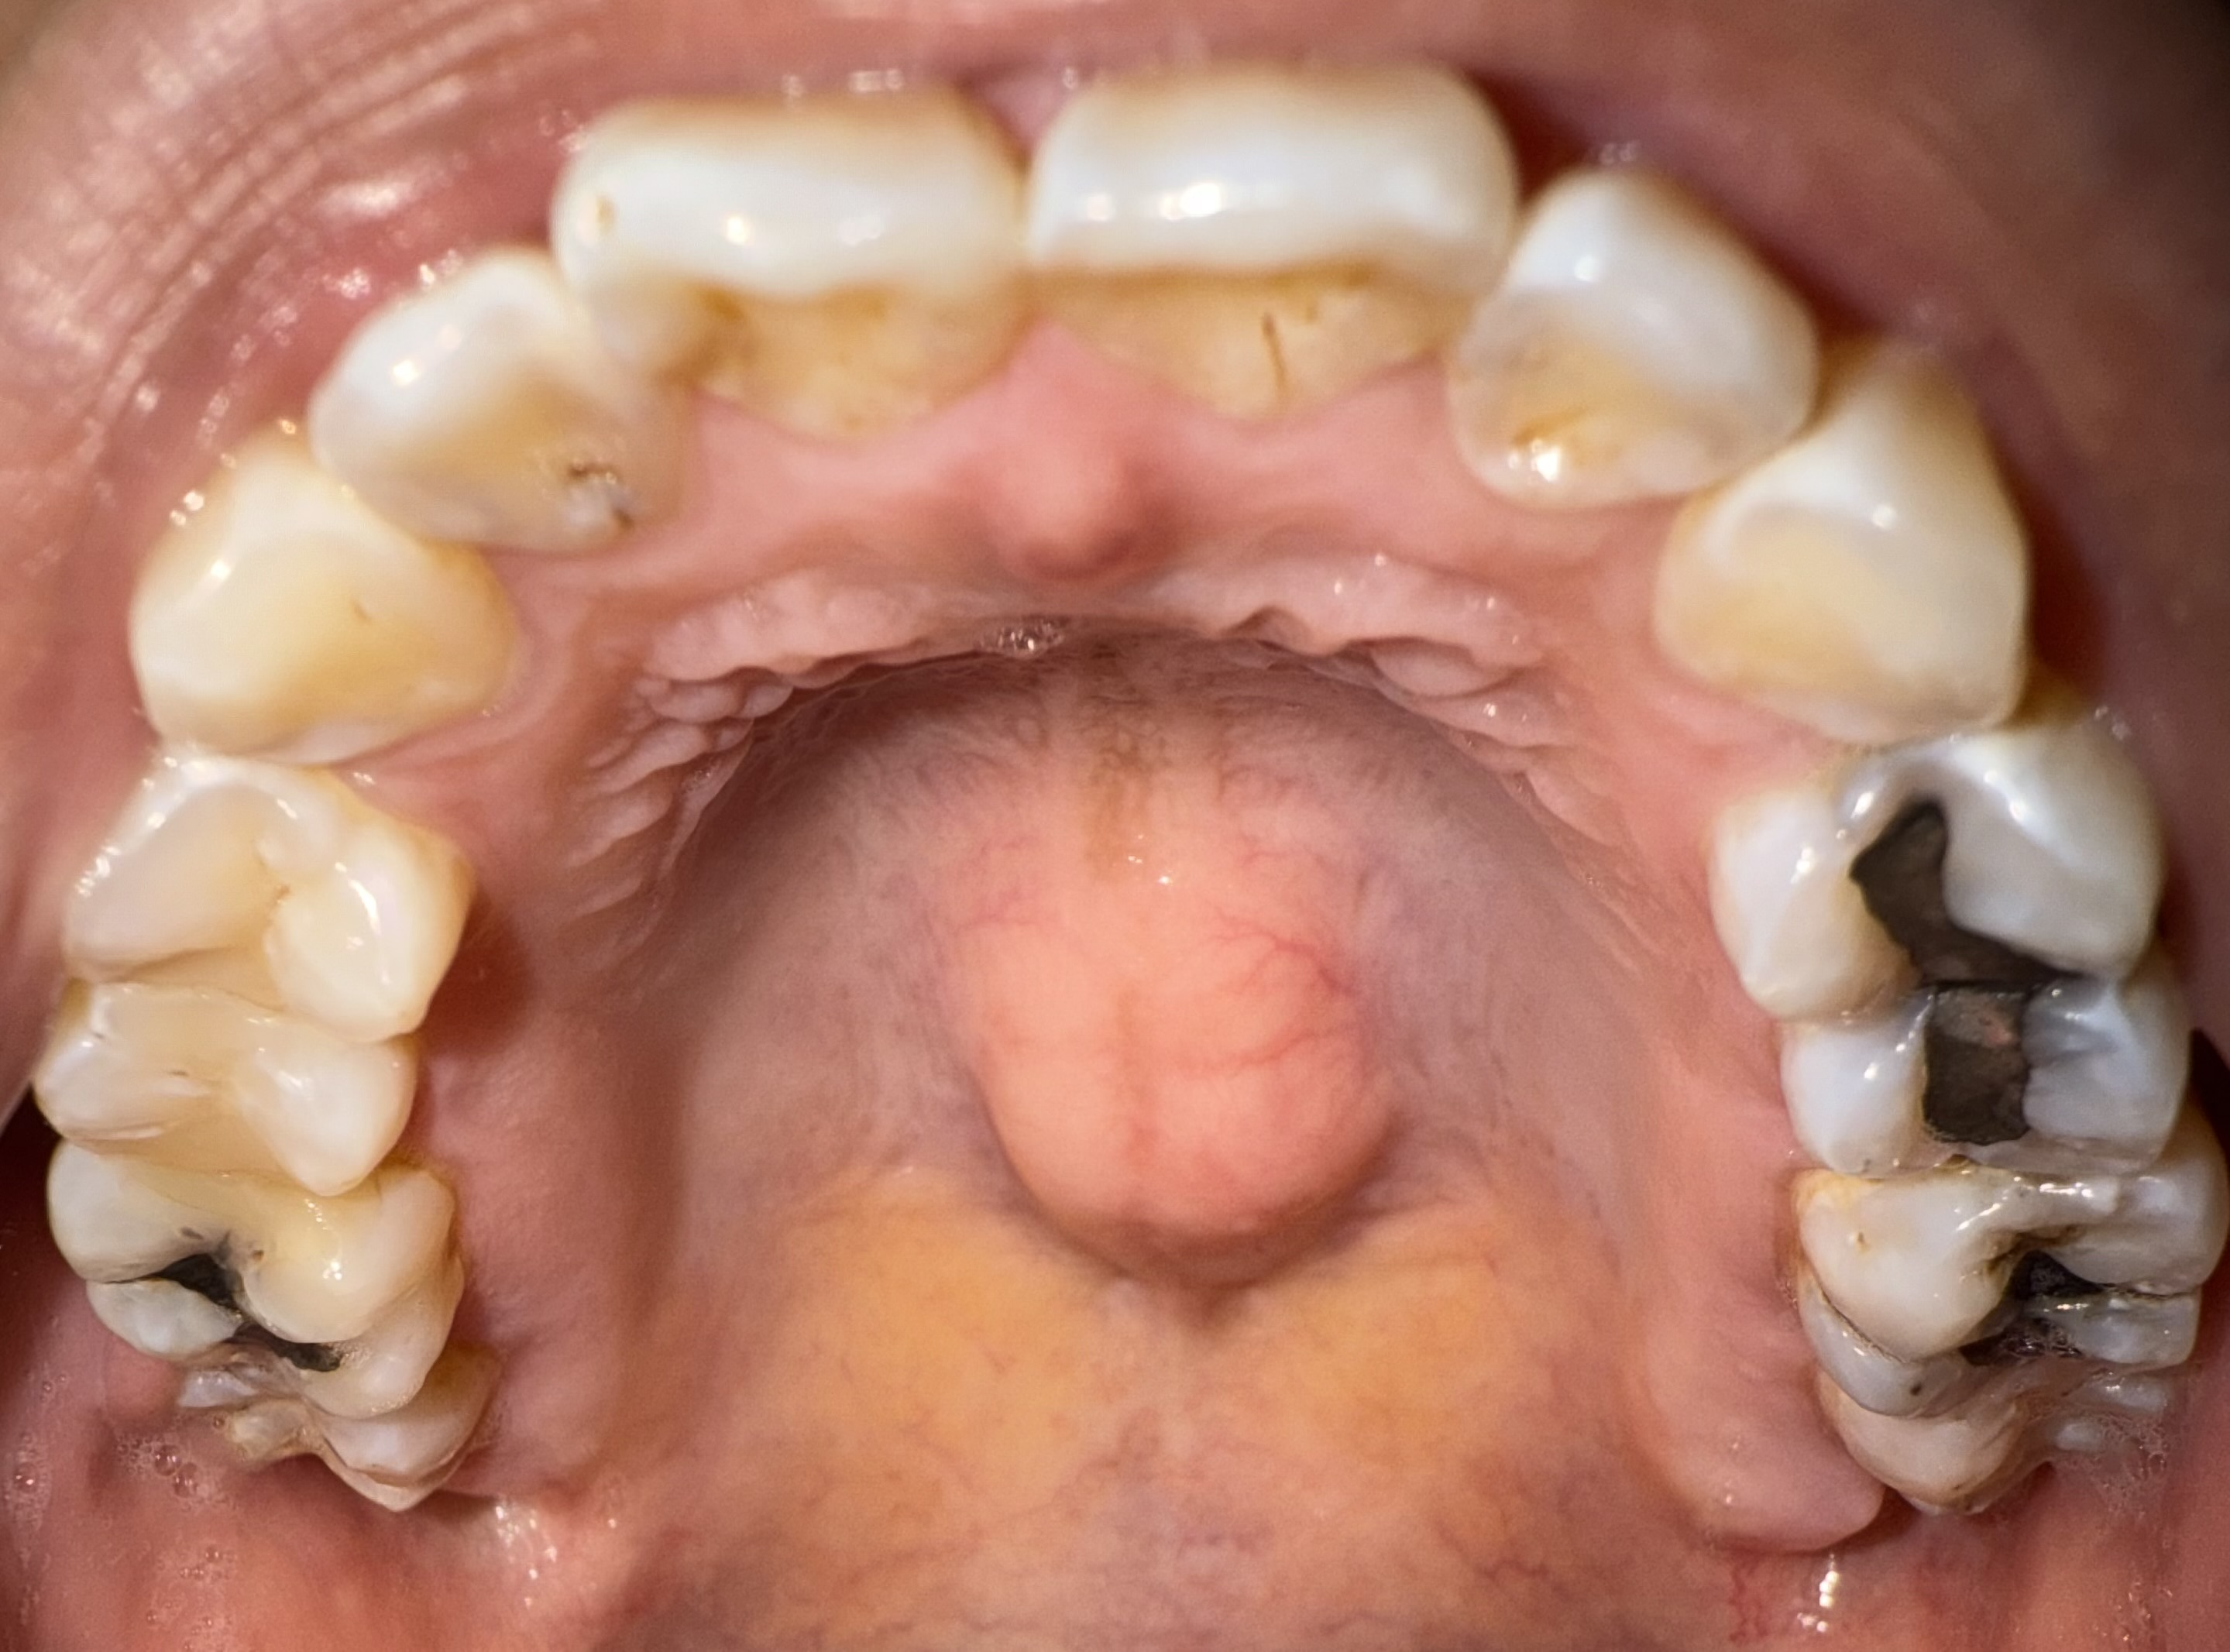teeth: (1027, 45, 1517, 416), (550, 87, 1027, 446), (1699, 684, 2178, 1017), (1661, 340, 2044, 729), (1456, 149, 1820, 515), (111, 432, 498, 755), (325, 239, 682, 560), (76, 774, 410, 1029), (1781, 970, 2181, 1175), (61, 1159, 439, 1341), (47, 986, 401, 1168)
